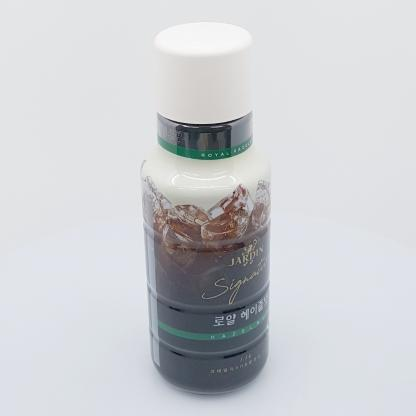--------1-1L: (140, 22, 271, 395)
